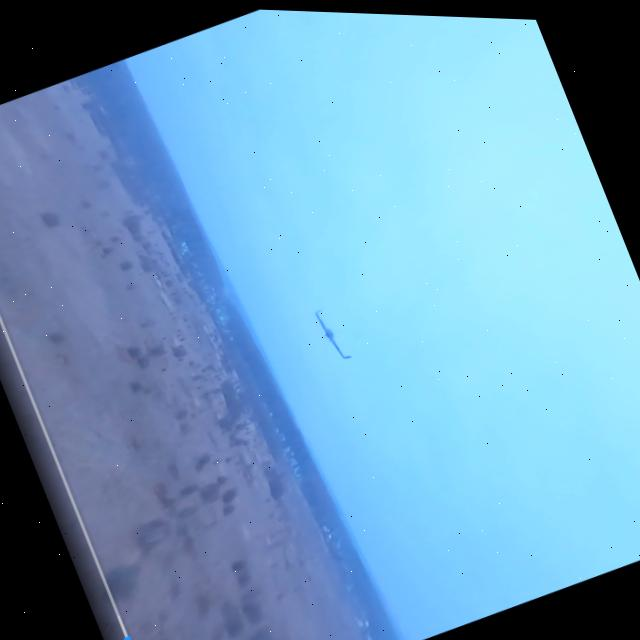planedrone: (296, 290, 366, 375)
